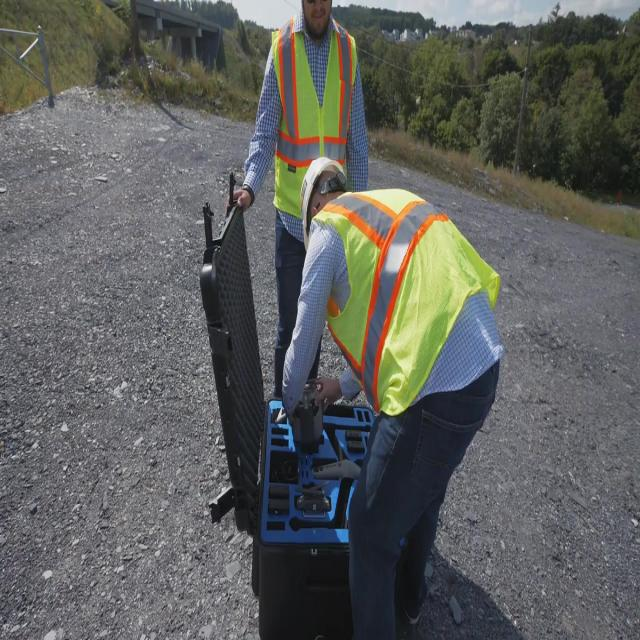Reflective-Jacket: (312, 184, 503, 421), (262, 14, 366, 225)
Safety-Helmet: (293, 148, 353, 252)
